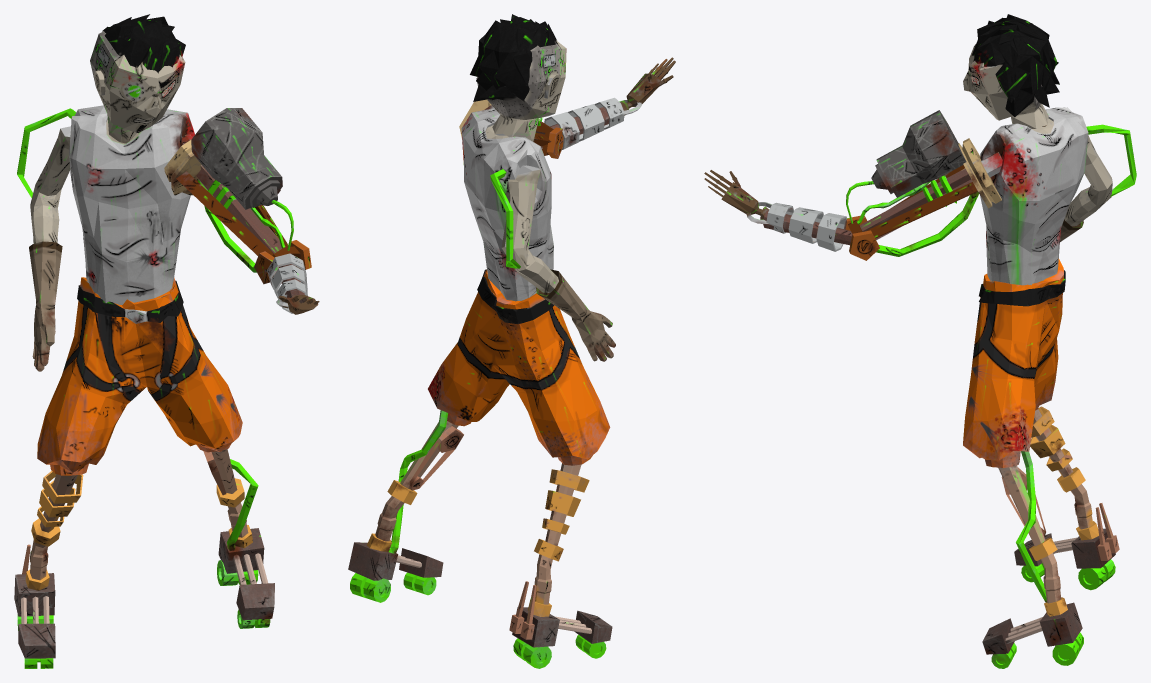
The model's file is CyborgFINALAnimation_000031.obj.
The picture shows the model from 3 angles, left to right: view 1: azimuth 30°, elevation 25°; view 2: azimuth 150°, elevation 25°; view 3: azimuth 270°, elevation 25°; orthographic projection. The views are drawn at different scales.
Visible parts, largest first — view 1: CyborgMesh_Cube.002; view 2: CyborgMesh_Cube.002; view 3: CyborgMesh_Cube.002.
Boxes of the visible parts, <box> form: CyborgMesh_Cube.002: <box>14,14,319,668</box>; CyborgMesh_Cube.002: <box>348,14,675,668</box>; CyborgMesh_Cube.002: <box>704,14,1136,668</box>.
Size of the model in its own units: 4 by 9.56 by 6.28.
